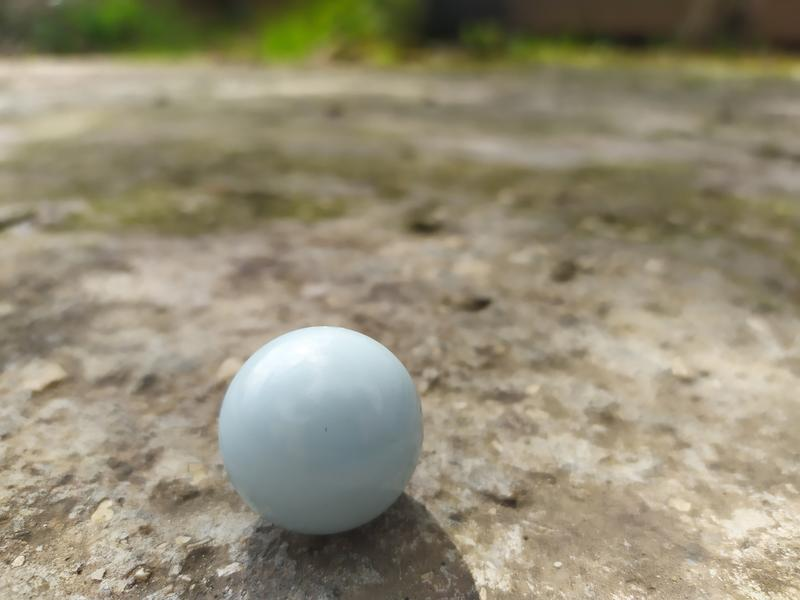Warning: (213, 321, 428, 538)
